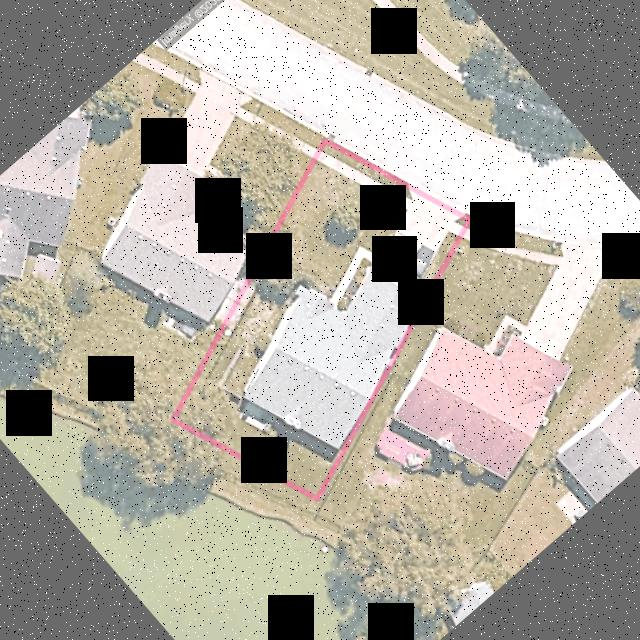Driveway: (375, 190, 459, 293)
House: (243, 268, 420, 448)
Other: (226, 276, 259, 328), (239, 403, 275, 431)
Sidewalk: (316, 151, 411, 209), (329, 246, 381, 305), (447, 222, 462, 234)
